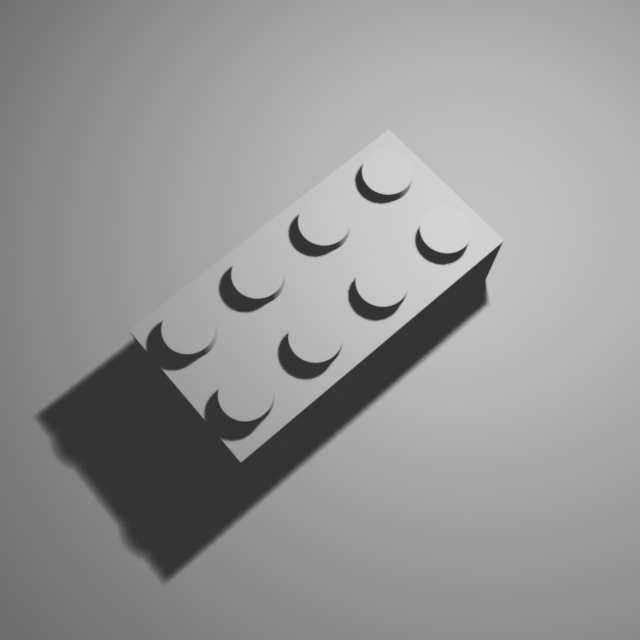lego_2x4: (125, 120, 507, 482)
